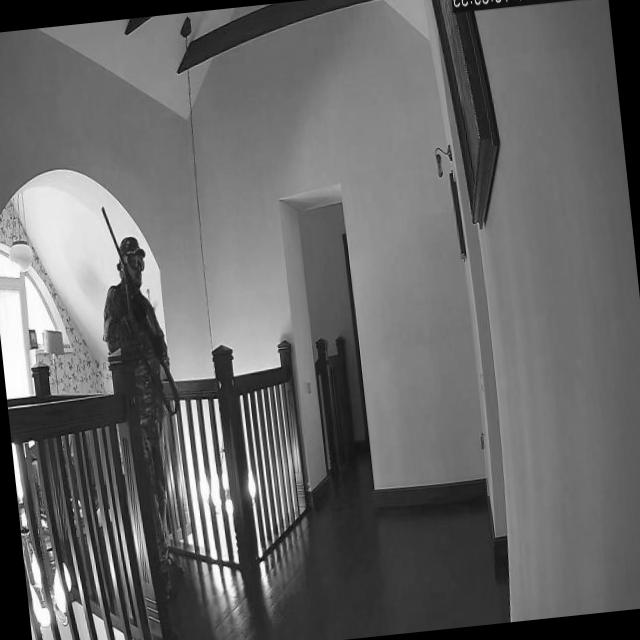gun: (100, 196, 182, 414)
person with a gun: (95, 232, 195, 601)
